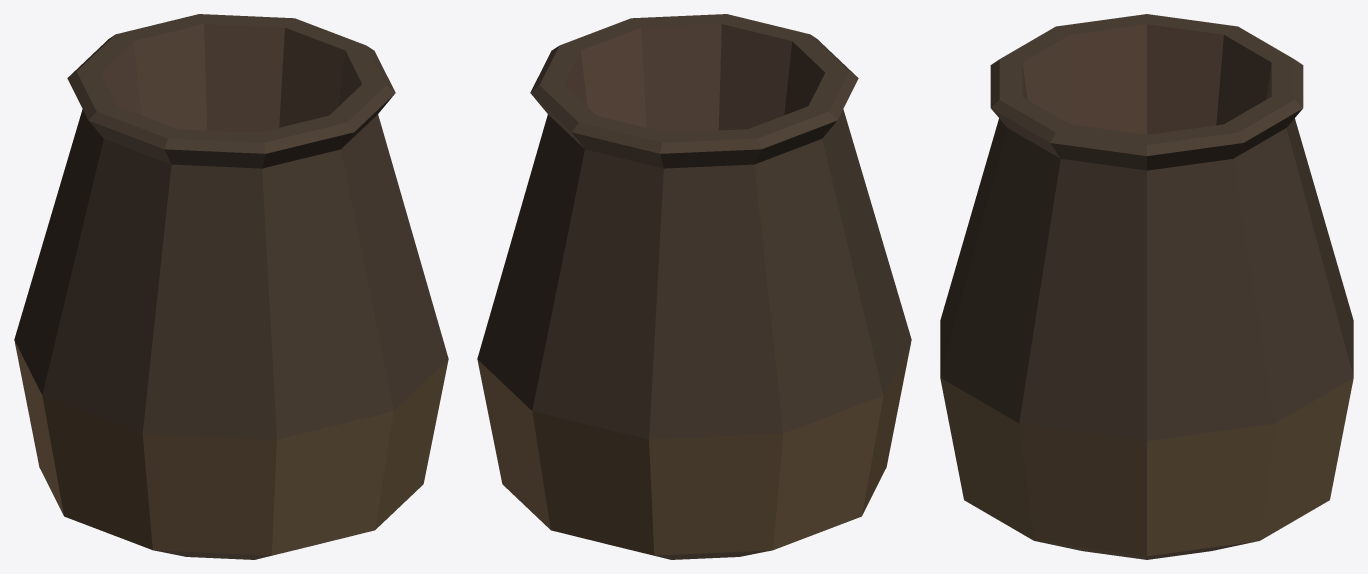
The model's file is Pot_3.fbx.
3 renders of one model, left to right at view 1: azimuth 30°, elevation 25°; view 2: azimuth 150°, elevation 25°; view 3: azimuth 270°, elevation 25°, orthographic.
Visible parts, largest first — view 1: pCylinder264; view 2: pCylinder264; view 3: pCylinder264.
Part boxes in pixels (x1,y1,x2,y2): pCylinder264: [14, 14, 448, 559]; pCylinder264: [477, 14, 911, 559]; pCylinder264: [940, 14, 1353, 559].
Bounding box in the file's own units: 32.73 × 36.03 × 31.13.
